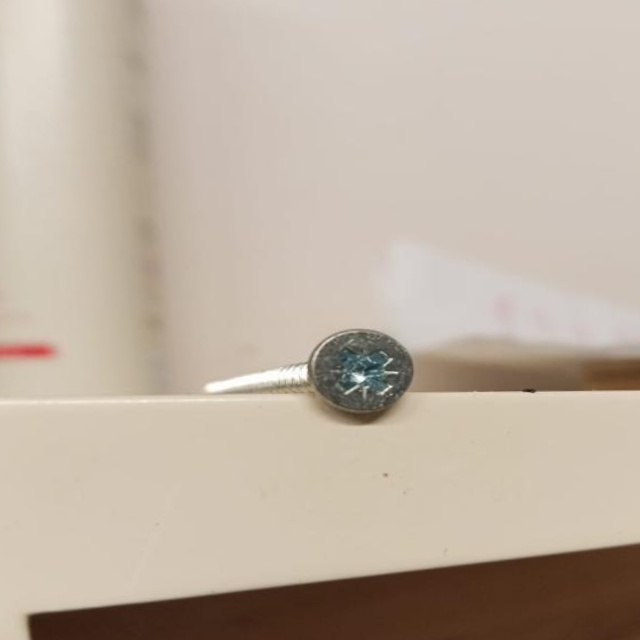pozidriv: (306, 326, 415, 415)
